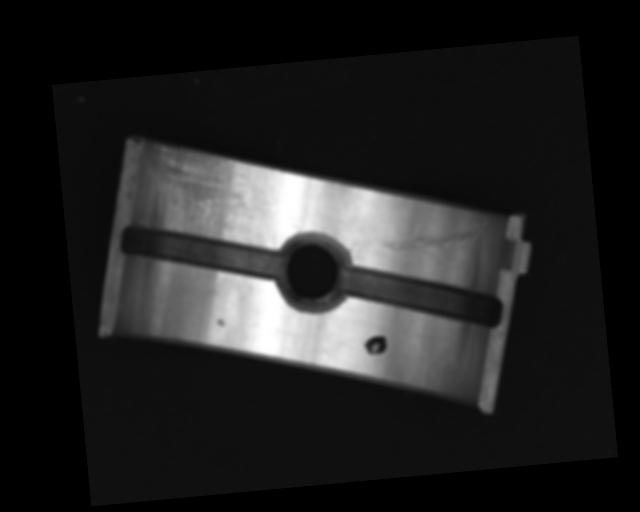blot: (362, 334, 389, 357)
bruise: (215, 318, 227, 326)
gap: (339, 252, 505, 343), (117, 212, 283, 292)
hole: (272, 230, 353, 311)
nick: (378, 220, 492, 273)
scratch: (146, 137, 256, 242)
